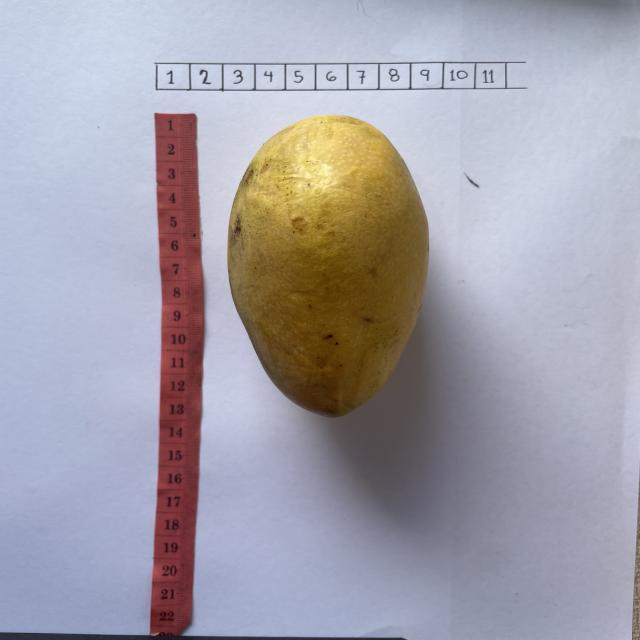Ripe: (226, 115, 430, 421)
